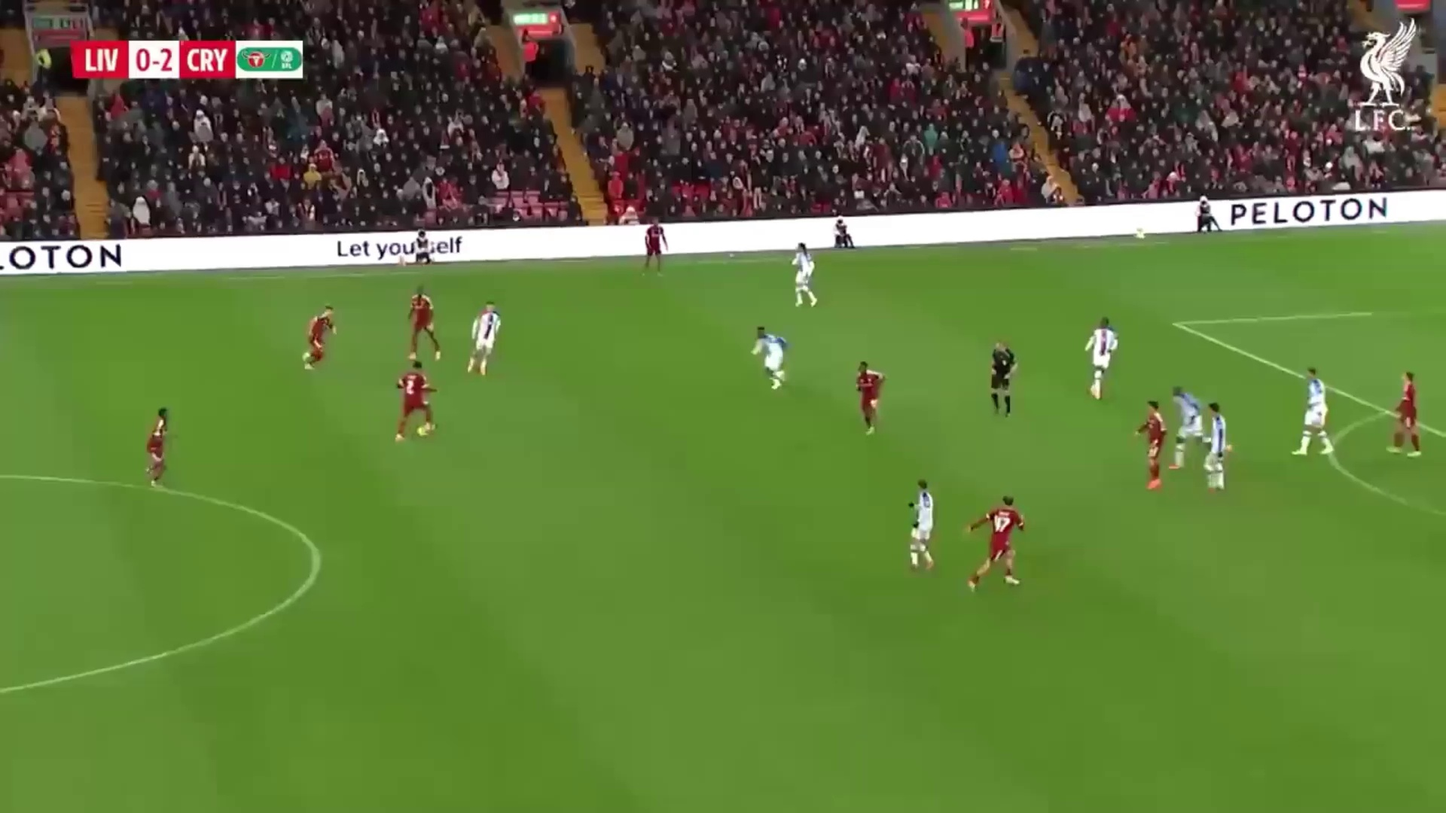player: (966, 496, 1026, 592), (1295, 368, 1333, 459), (1169, 388, 1207, 479), (1385, 369, 1424, 456), (394, 367, 439, 442), (906, 478, 938, 574), (1136, 400, 1167, 492), (1086, 318, 1119, 402), (466, 303, 502, 378), (407, 290, 441, 365), (1202, 401, 1230, 492), (752, 324, 789, 391), (988, 340, 1017, 419), (855, 363, 886, 436), (144, 408, 171, 488), (303, 308, 338, 369), (792, 241, 820, 309), (643, 221, 665, 274), (832, 218, 853, 250)
